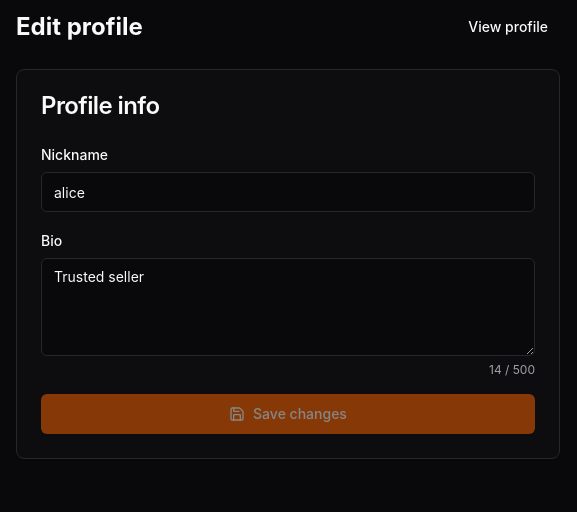
Scenario: EditProfilePage — error handling › shows error on 409 nickname conflict
Replace the text in the field labelled "Nickname" with "taken_nick" at (288, 192), box [41, 172, 535, 212]
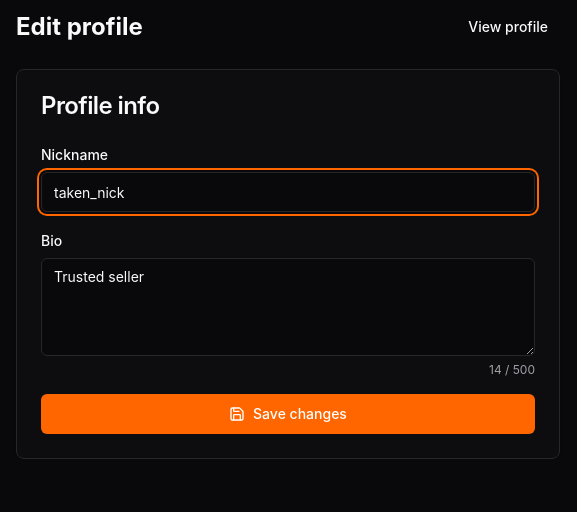
Click the button "Save changes" at (288, 414), box [41, 394, 535, 434]
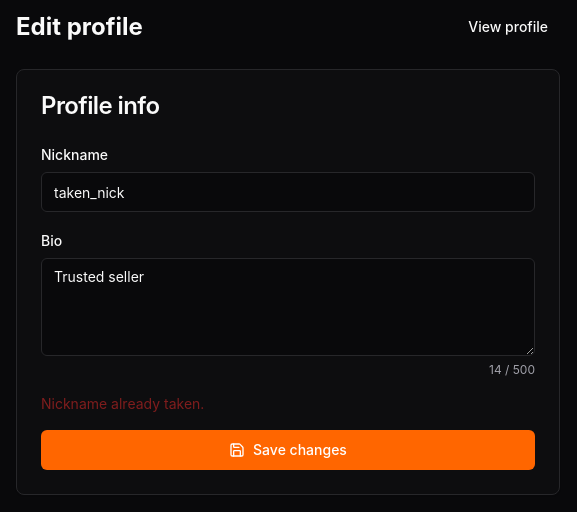
Expected: the message shows "Nickname already taken", [41, 395, 204, 412]
